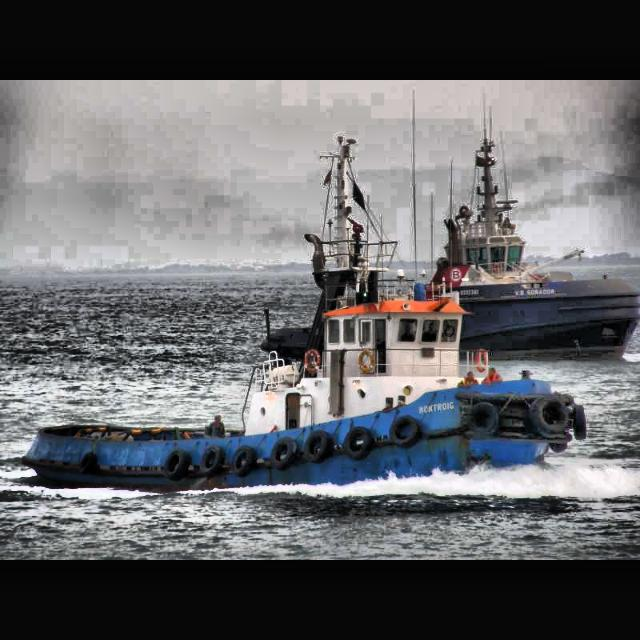tug: (19, 231, 592, 497), (386, 169, 640, 365)
